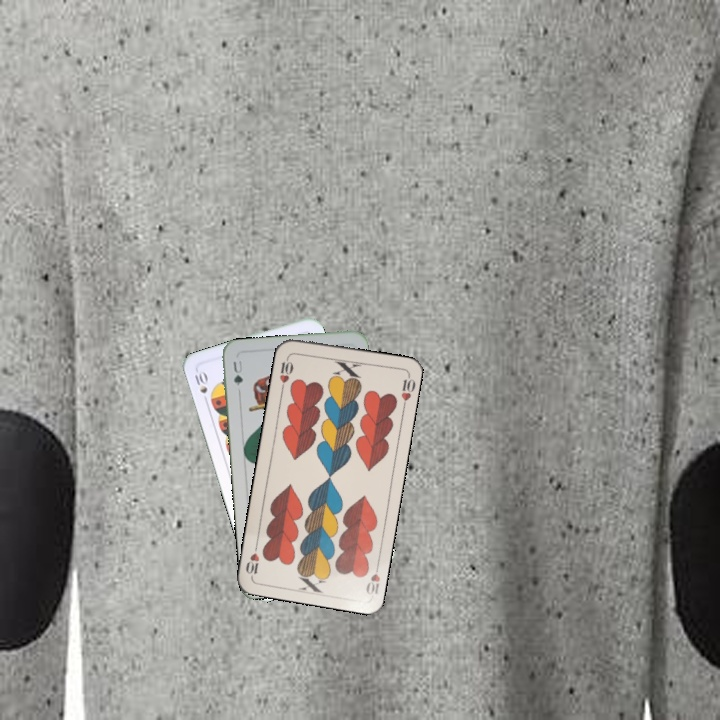GU: (229, 356, 246, 389)
H10: (275, 352, 296, 392), (362, 558, 383, 598)
S10: (191, 367, 210, 406)
